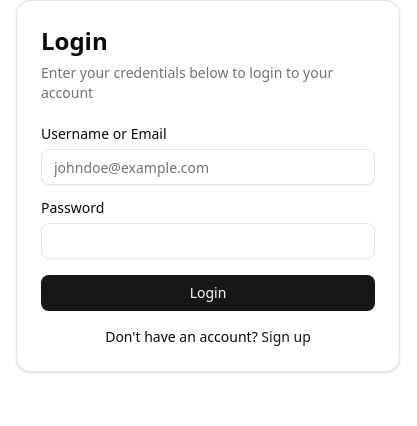
Test: LoginForm › does not allow login with invalid email format
# Fill with invalid email format
Type "invalid-email" into the field with id "username".
click(208, 167); type("invalid-email")  # box [41,149,375,185]
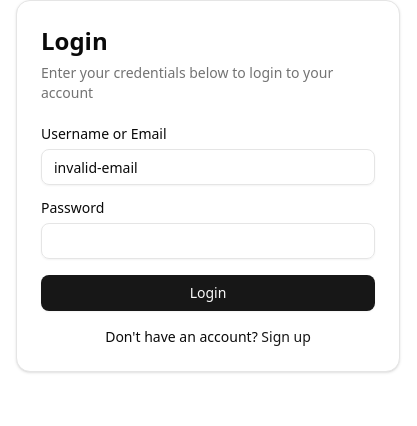
Type "password123" into the password field labelled "Password".
click(208, 241); type("password123")  # box [41,223,375,259]
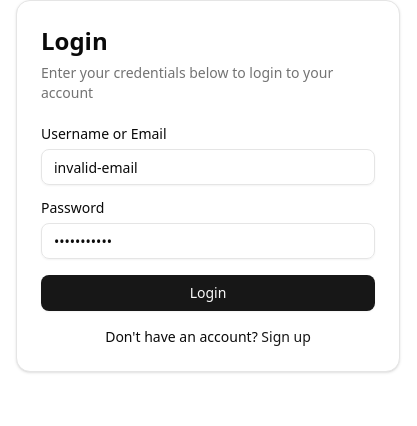
Submit the form, box [41,127,375,311]
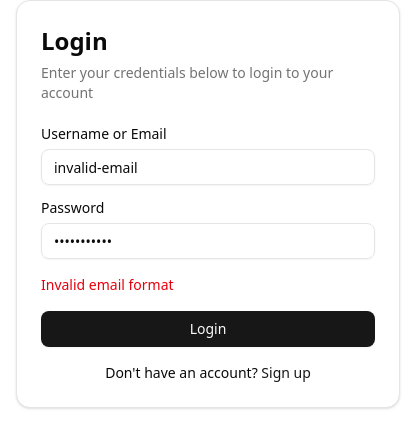
Expected: the text "Invalid email format" is shown, [41,275,174,294]
